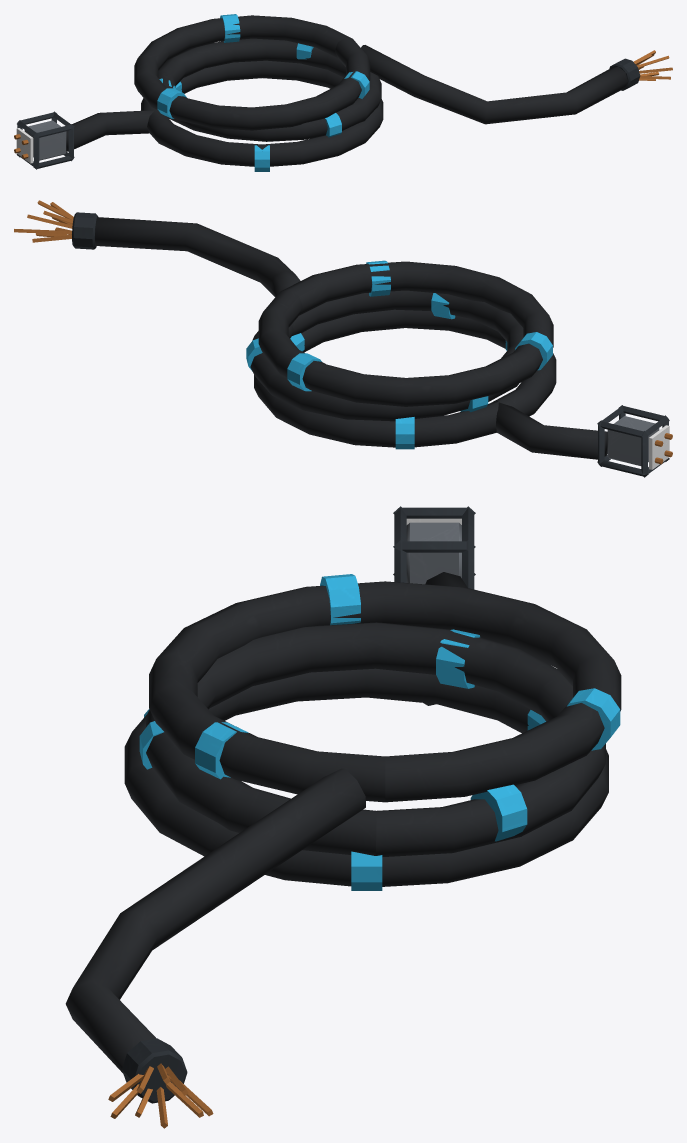
File: cable_bundle_torn.glb
3 renders of one model, top to bottom at view 1: azimuth 30°, elevation 25°; view 2: azimuth 150°, elevation 25°; view 3: azimuth 270°, elevation 25°, orthographic. The views are drawn at different scales.
Parts seen in each view (by area): view 1: cable_bundle_torn; view 2: cable_bundle_torn; view 3: cable_bundle_torn.
Part boxes in pixels (x1,y1,x2,y2): cable_bundle_torn: (14,14,672,171); cable_bundle_torn: (14,200,672,477); cable_bundle_torn: (65,506,621,1128).
Size of the model in its own units: 4.35 by 0.4478 by 1.81.
6 materials, 6 textured.
